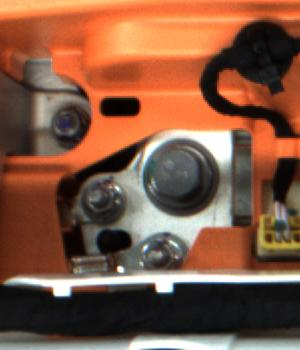nut_b: (136, 136, 228, 215)
